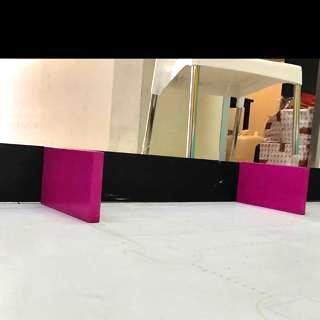xparking: (46, 152, 101, 224), (236, 171, 306, 218)
